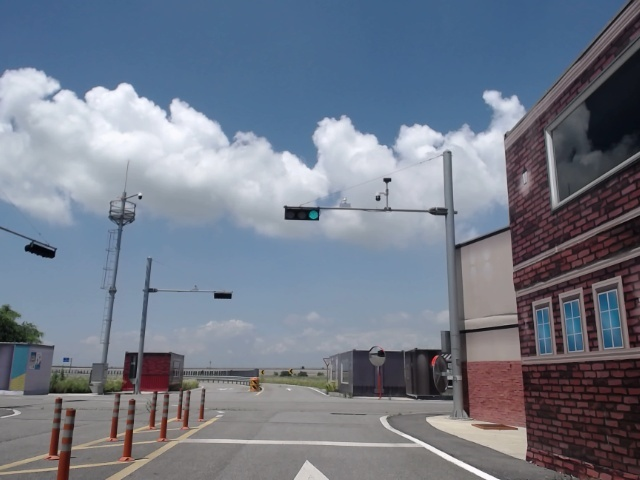green_3: (284, 208, 319, 220)
